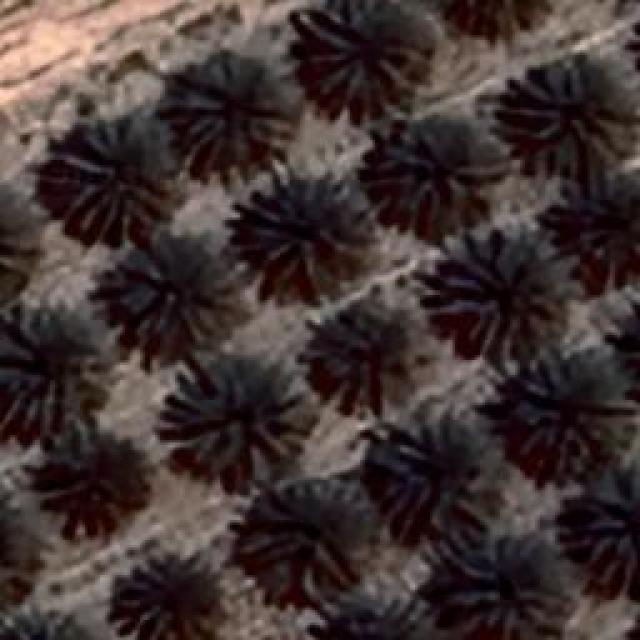PalmTree: (25, 94, 106, 555), (106, 18, 493, 94), (158, 352, 312, 486), (430, 220, 568, 352), (48, 110, 182, 240), (167, 52, 295, 178), (245, 167, 370, 295), (123, 225, 250, 340), (502, 58, 630, 172), (362, 414, 486, 528), (426, 542, 564, 640), (230, 478, 345, 592), (515, 354, 635, 458), (302, 0, 422, 102), (367, 115, 495, 210), (301, 296, 421, 396), (0, 305, 95, 430), (38, 438, 152, 528), (123, 562, 240, 640), (552, 168, 638, 270), (578, 462, 638, 590), (0, 182, 34, 298), (328, 602, 420, 640), (2, 602, 100, 636), (629, 294, 640, 402)
